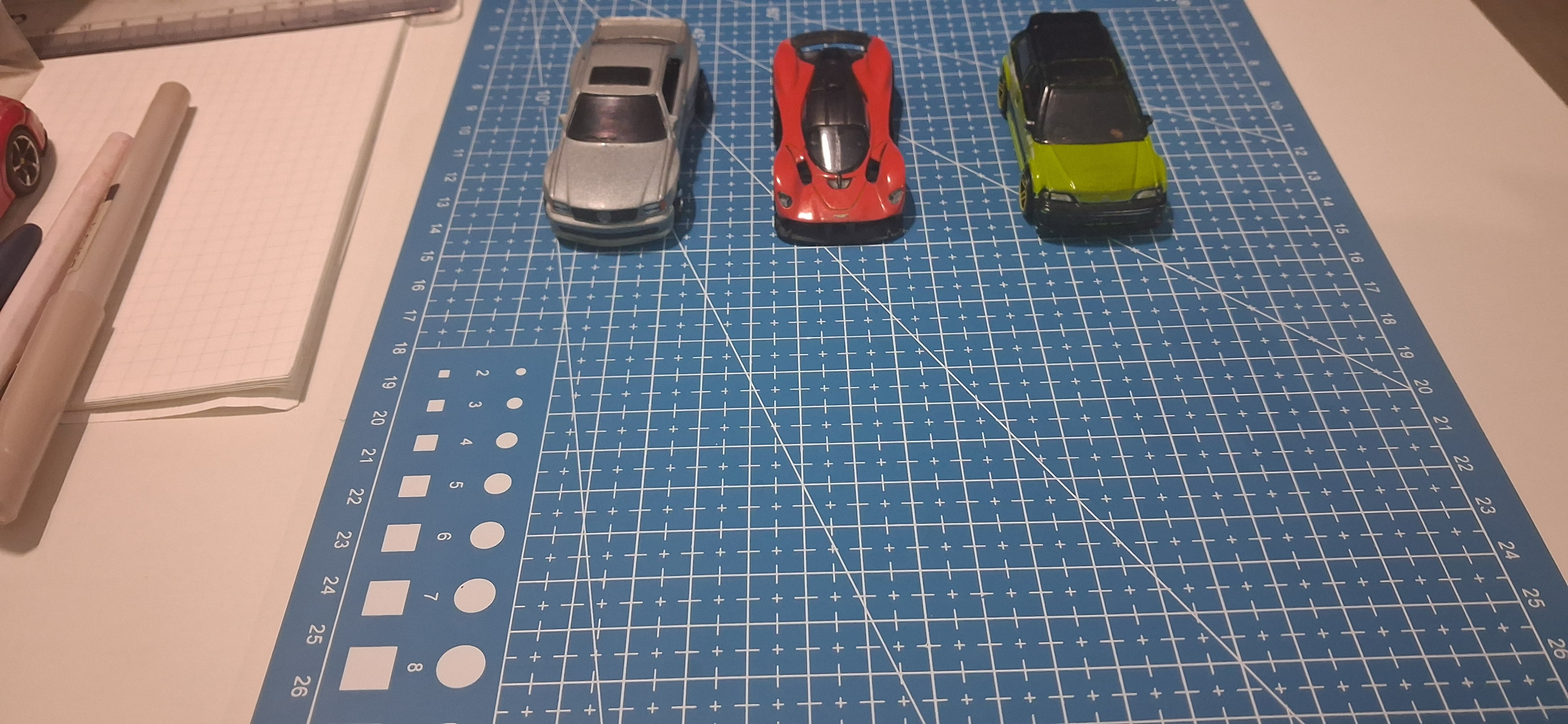Aston_Martin_Valkyrie: (747, 7, 932, 268)
Honda_Civic: (976, 2, 1200, 265)
Mercedes_Benz_560_SEC_AMG: (552, 1, 713, 287)
